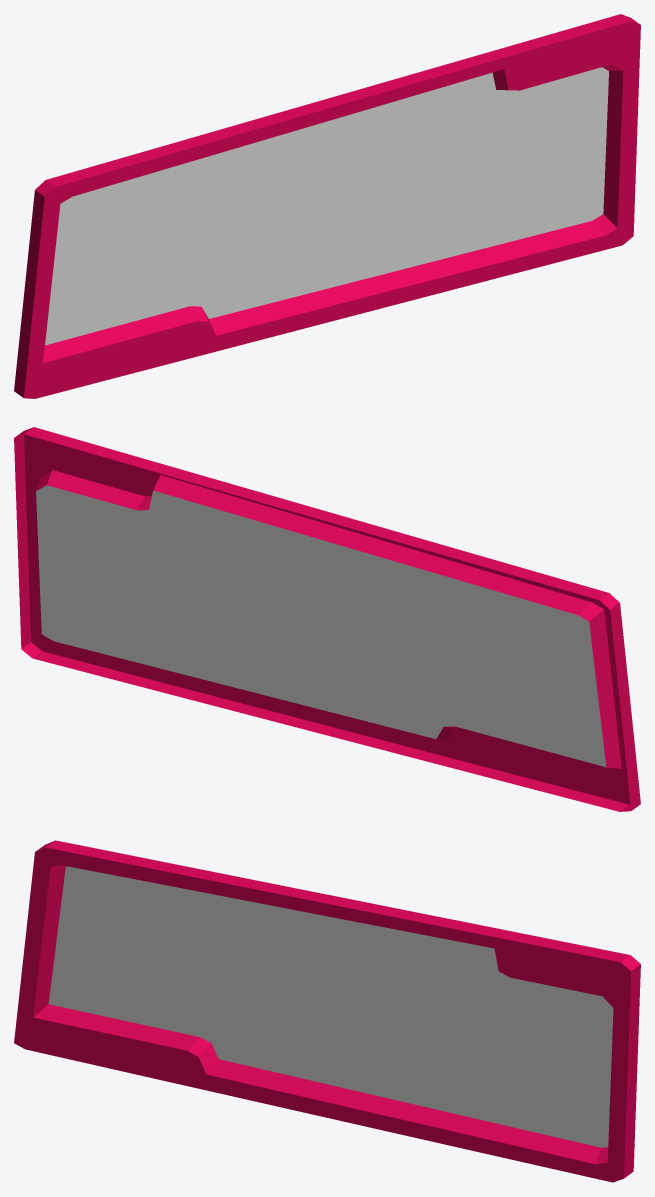
File: SM_Ecran_03.fbx
The picture shows the model from 3 angles, top to bottom: view 1: azimuth 30°, elevation 25°; view 2: azimuth 150°, elevation 25°; view 3: azimuth 330°, elevation 25°; orthographic projection.
Parts seen in each view (by area): view 1: SM_Ecran_03; view 2: SM_Ecran_03; view 3: SM_Ecran_03.
Boxes of the visible parts, x1,y1,x2,y2 form: SM_Ecran_03: (14,14,640,398); SM_Ecran_03: (14,427,640,811); SM_Ecran_03: (14,840,640,1182).
Bounding box in the file's own units: 6.9 × 2.48 × 0.1902.
